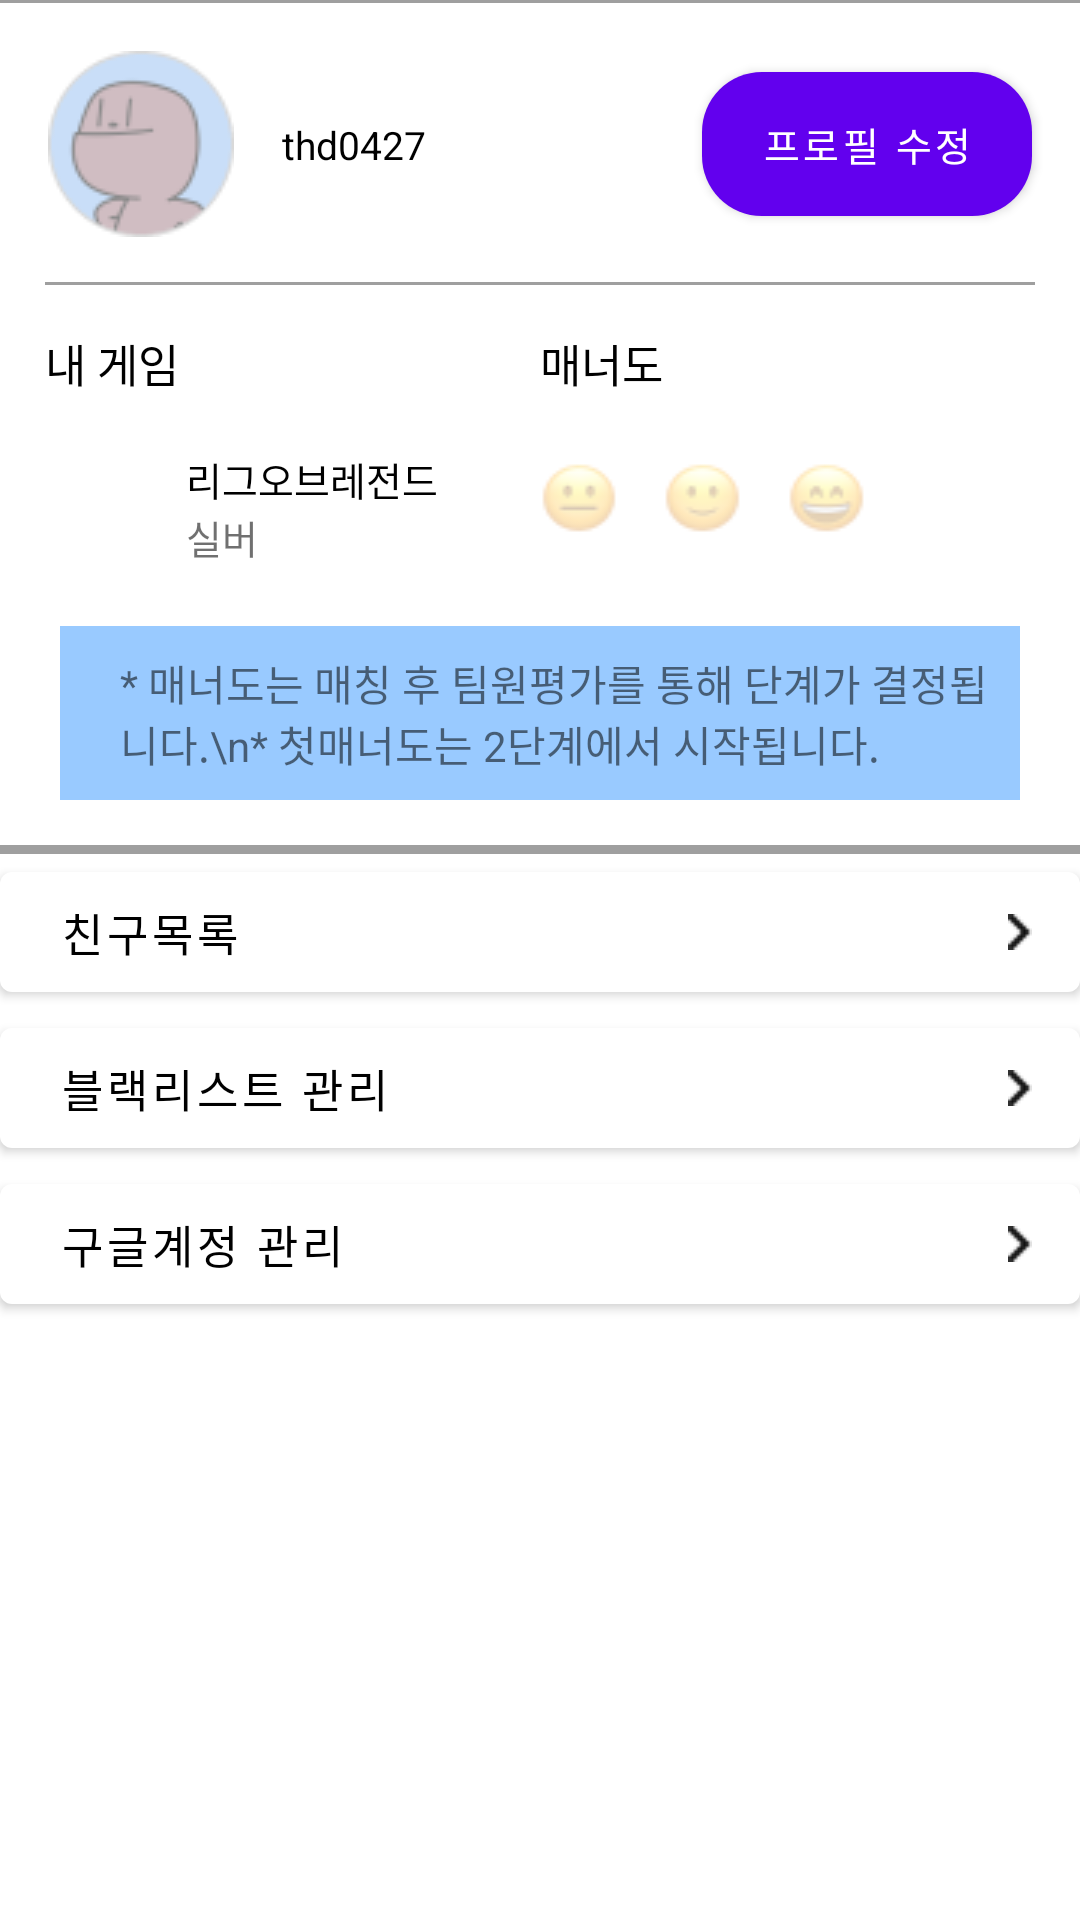

Screen size 1080w x 1920h. Icon name, then its box in pixels as bbox(x1, y1, x2, y2):
profile: bbox(48, 51, 234, 237)
